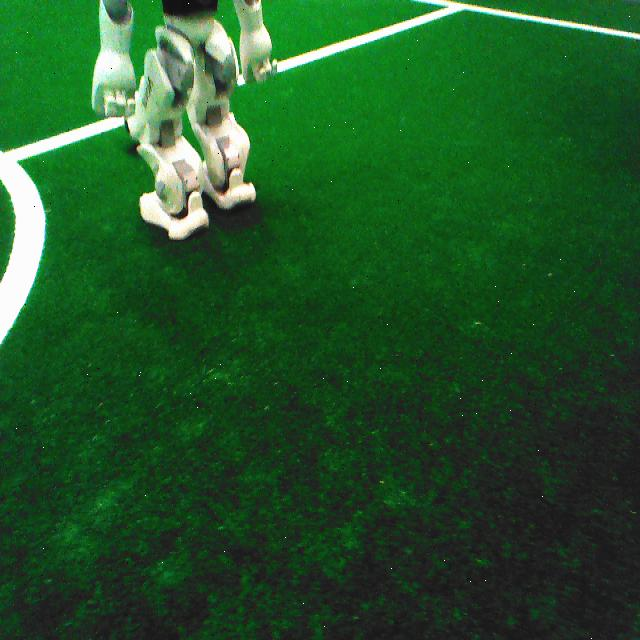ball: (123, 88, 142, 145)
